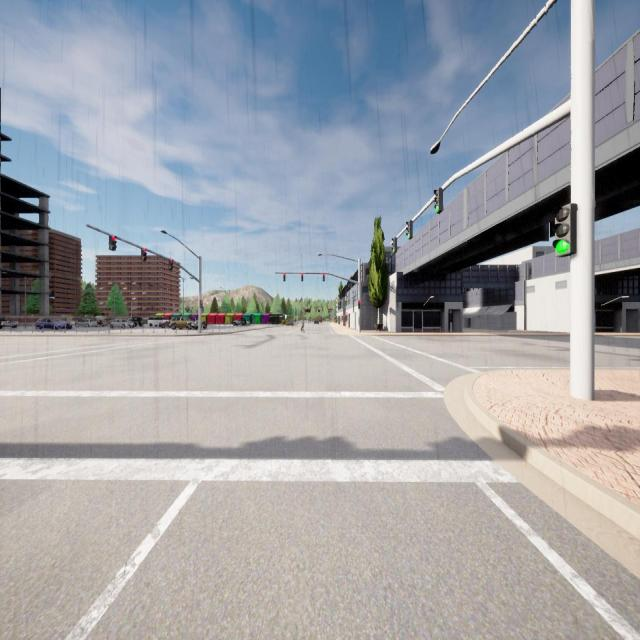Pedestrian: (300, 320, 305, 334)
Vehicle: (35, 316, 72, 330), (170, 316, 192, 330), (110, 318, 134, 329), (148, 316, 168, 328), (0, 317, 19, 329), (191, 319, 207, 330), (74, 318, 90, 328), (95, 316, 109, 326), (132, 317, 142, 327), (232, 318, 246, 325), (91, 320, 98, 327), (286, 320, 294, 326), (314, 320, 319, 325), (246, 320, 250, 326)
traffic_light: (552, 204, 577, 258), (434, 188, 443, 213), (406, 220, 413, 240), (109, 235, 117, 251), (392, 238, 397, 254), (141, 248, 147, 260), (169, 259, 173, 270), (200, 300, 203, 308), (358, 300, 360, 309), (283, 273, 285, 281), (301, 273, 303, 281), (323, 273, 325, 281)
